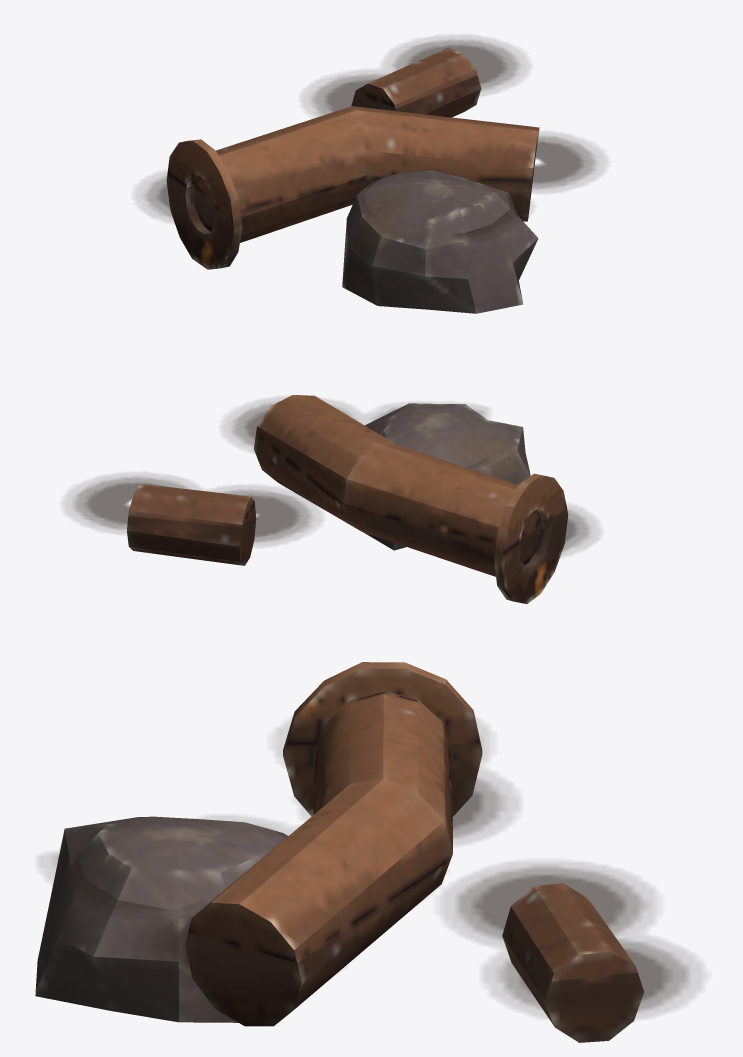
3 renders of one model, top to bottom at view 1: azimuth 30°, elevation 25°; view 2: azimuth 150°, elevation 25°; view 3: azimuth 270°, elevation 25°, orthographic. The views are drawn at different scales.
Parts seen in each view (by area): view 1: Pipe, PipeStone, GroundShade; view 2: Pipe, GroundShade, PipeStone; view 3: Pipe, GroundShade, PipeStone.
Part boxes in pixels (bbox=[...]): Pipe: bbox=[166, 47, 539, 269]; PipeStone: bbox=[342, 170, 538, 313]; GroundShade: bbox=[136, 35, 605, 241]; Pipe: bbox=[127, 395, 568, 603]; GroundShade: bbox=[64, 397, 598, 559]; PipeStone: bbox=[363, 403, 530, 550]; Pipe: bbox=[185, 662, 643, 1042]; GroundShade: bbox=[41, 722, 700, 1021]; PipeStone: bbox=[35, 816, 288, 1022].
Size of the model in its own units: 12.8 by 3.23 by 11.18.
Materials: 3 (3 with a texture image).
